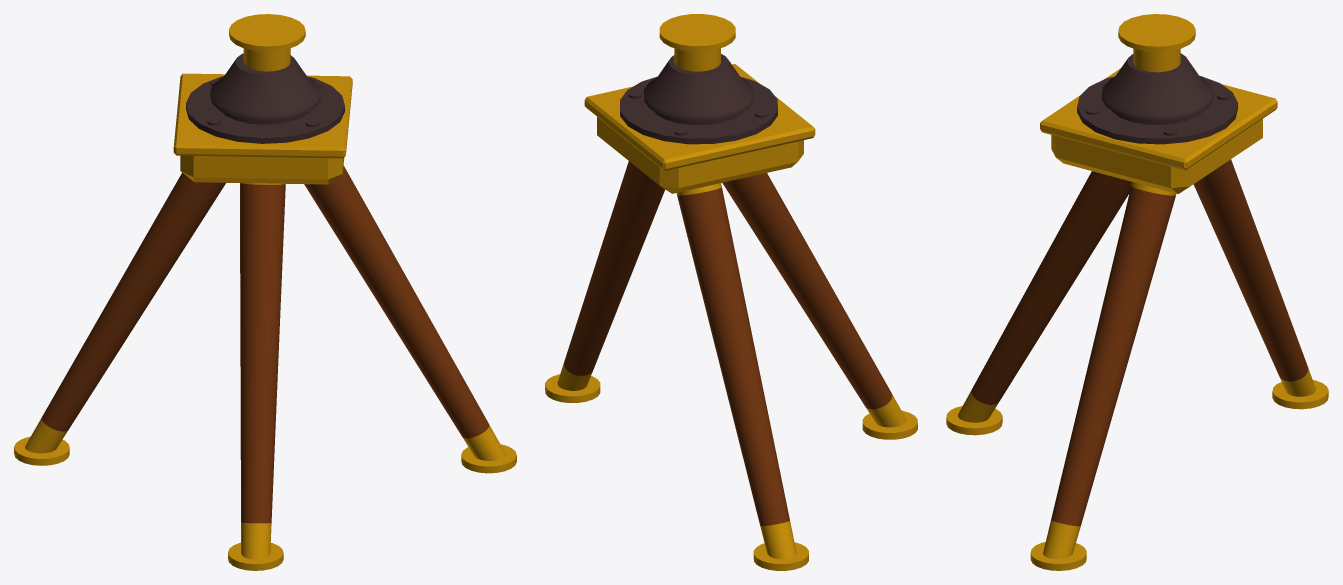
The model's file is Turret.fbx.
3 views of the same model, side by side, from view 1: azimuth 30°, elevation 25°; view 2: azimuth 150°, elevation 25°; view 3: azimuth 270°, elevation 25° (orthographic).
Visible parts, largest first — view 1: polySurface185; view 2: polySurface185; view 3: polySurface185.
Boxes of the visible parts, x1,y1,x2,y2 form: polySurface185: (14, 14, 516, 570); polySurface185: (545, 14, 917, 570); polySurface185: (946, 14, 1328, 570).
Bounding box in the file's own units: 2.72 × 3.06 × 2.37.
